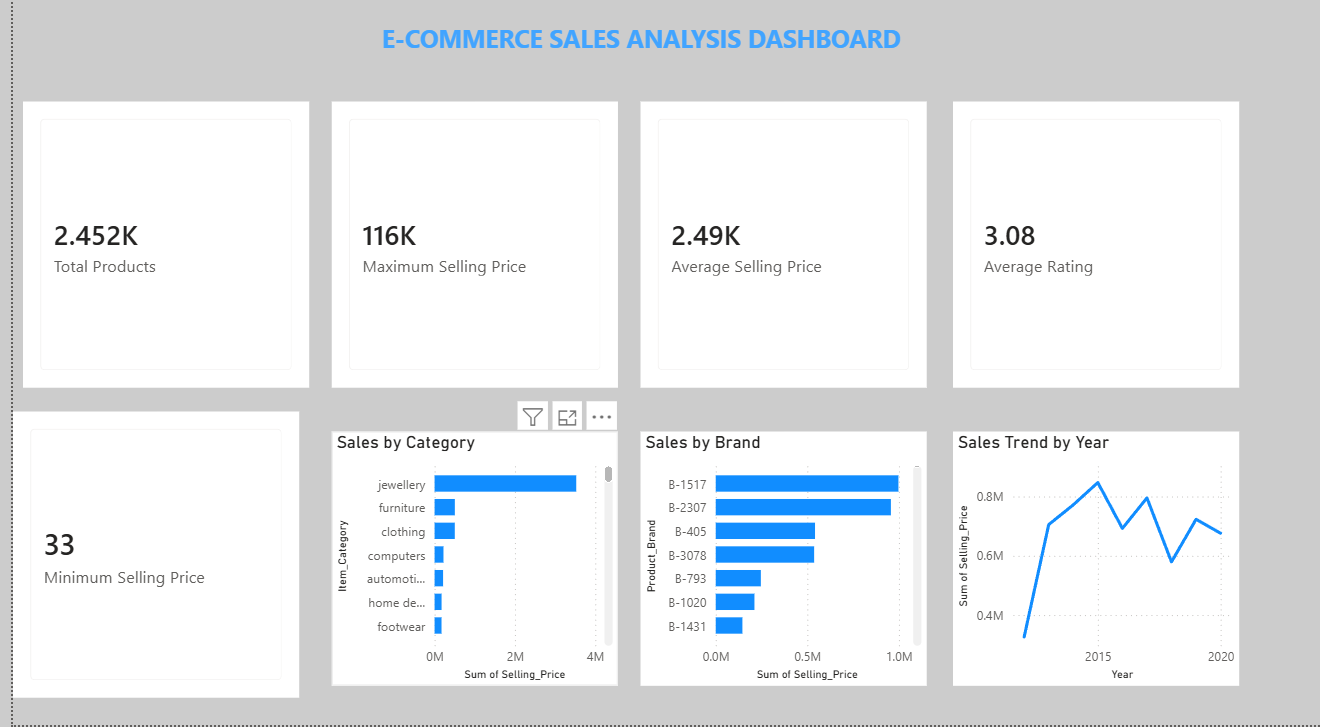

Layout of this report page (visuals, bound fields, positions):
{"tool":"powerbi","page":{"name":"Page 1","canvas":[1280,720],"ordinal":0},"visuals":[{"type":"cardVisual","fields":{"Data":["CountNonNull(data.Product)"]},"box":[10,110,280,280],"z":0},{"type":"textbox","box":[252.9,27.1,722.9,58.6],"z":1000},{"type":"cardVisual","fields":{"Data":["Avg(data.Selling_Price)"]},"box":[614.3,110,280,280],"z":2000},{"type":"cardVisual","fields":{"Data":["Max(data.Selling_Price)"]},"box":[311.4,110,280,280],"z":3000},{"type":"cardVisual","fields":{"Data":["Avg(data.Item_Rating)"]},"box":[920,110,280,280],"z":4000},{"type":"cardVisual","fields":{"Data":["Min(data.Selling_Price)"]},"box":[0,412.9,280,280],"z":5000},{"type":"clusteredBarChart","title":"Sales by Category","fields":{"Category":["data.Item_Category"],"Y":["Sum(data.Selling_Price)"]},"box":[311.4,432.9,280,248.6],"z":6000},{"type":"clusteredBarChart","title":"Sales by Brand ","fields":{"Category":["data.Product_Brand"],"Y":["Sum(data.Selling_Price)"]},"box":[614.3,432.9,280,248.6],"z":7000},{"type":"lineChart","title":"Sales Trend by Year","fields":{"Category":["data.Year"],"Y":["Sum(data.Selling_Price)"]},"box":[920,432.9,280,248.6],"z":8000}]}

Visuals, with their boxes in screenshot pixels (x1, y1, x2, y2), scaled from the page's 1280x720 canvas onto the 1320x727 screenshot:
cardVisual - CountNonNull(data.Product): box=[10, 111, 299, 394]
textbox: box=[261, 27, 1006, 87]
cardVisual - Avg(data.Selling_Price): box=[633, 111, 922, 394]
cardVisual - Max(data.Selling_Price): box=[321, 111, 610, 394]
cardVisual - Avg(data.Item_Rating): box=[949, 111, 1238, 394]
cardVisual - Min(data.Selling_Price): box=[0, 417, 289, 700]
"Sales by Category" clusteredBarChart: box=[321, 437, 610, 688]
"Sales by Brand " clusteredBarChart: box=[633, 437, 922, 688]
"Sales Trend by Year" lineChart: box=[949, 437, 1238, 688]
